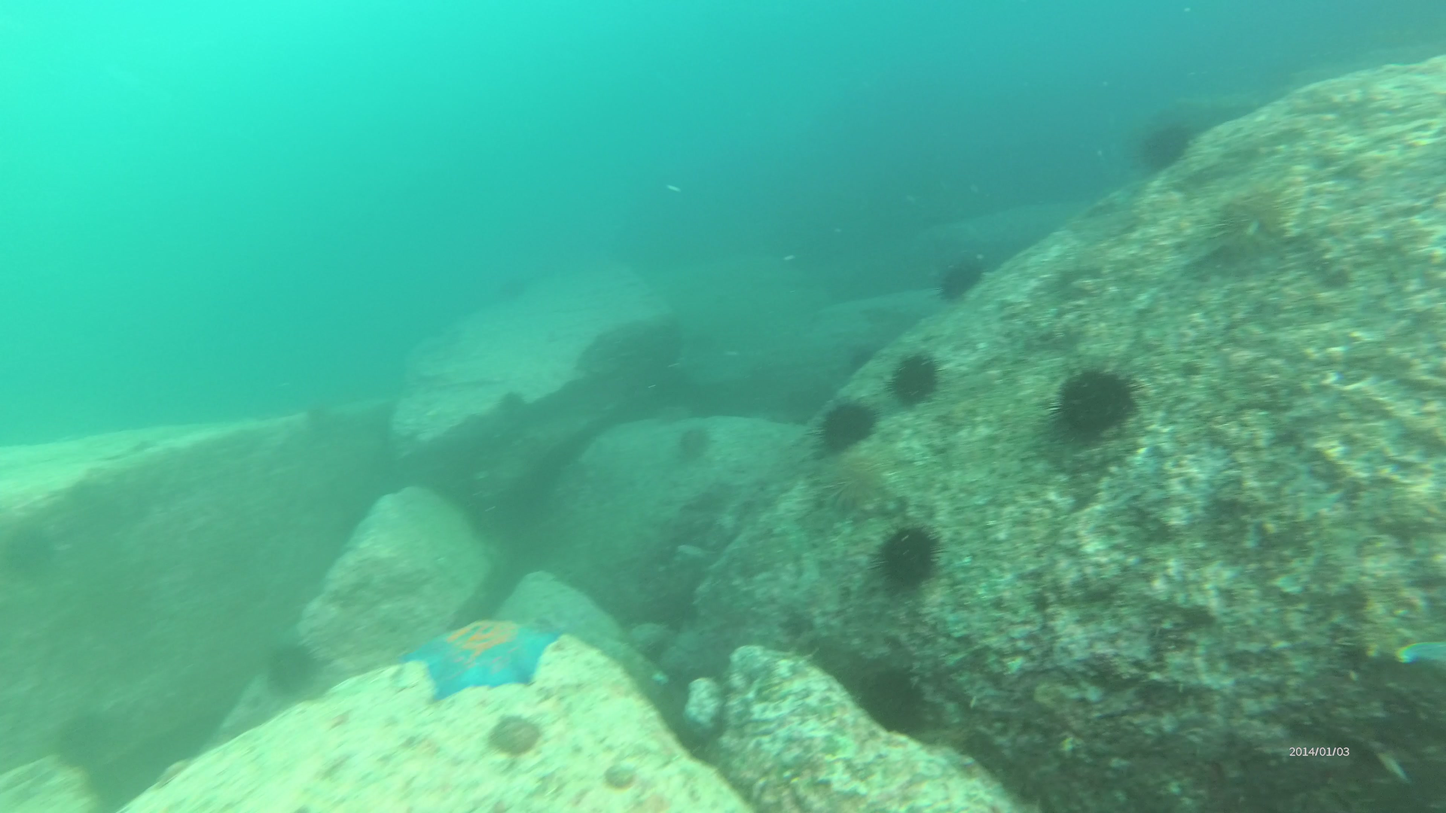holothurian: (401, 611, 567, 701)
starfish: (1213, 183, 1304, 262), (850, 661, 941, 738), (1059, 368, 1147, 437), (866, 522, 943, 589), (47, 714, 116, 769), (818, 454, 888, 506), (811, 399, 881, 447), (263, 645, 323, 700), (888, 355, 945, 406), (1134, 122, 1199, 166), (930, 261, 991, 300), (677, 421, 715, 463)
